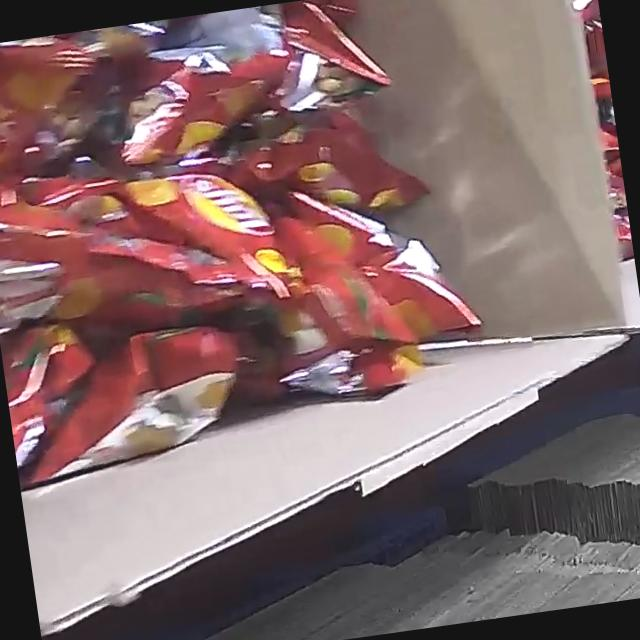masala: (0, 0, 498, 507), (551, 0, 638, 294)
